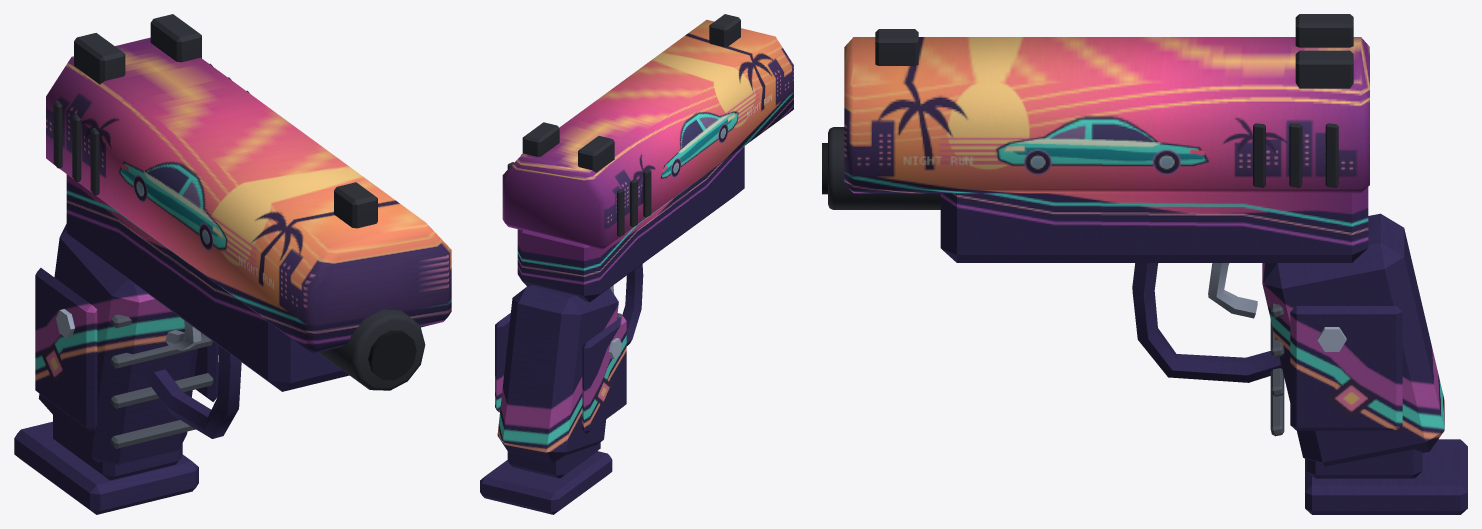
The model's file is Deagle_NightRun.glb.
3 renders of one model, left to right at view 1: azimuth 30°, elevation 25°; view 2: azimuth 150°, elevation 25°; view 3: azimuth 270°, elevation 25°, orthographic. The views are drawn at different scales.
Parts seen in each view (by area): view 1: Slide, Main, Magazine; view 2: Slide, Main, Magazine; view 3: Slide, Main, Magazine.
Part boxes in pixels (left/top/right/bottom): Slide: left=46, top=14, right=451, bottom=353; Main: left=35, top=174, right=425, bottom=464; Magazine: left=14, top=415, right=198, bottom=514; Slide: left=502, top=14, right=793, bottom=249; Main: left=495, top=146, right=744, bottom=463; Magazine: left=480, top=442, right=612, bottom=514; Slide: left=844, top=14, right=1369, bottom=193; Main: left=822, top=127, right=1444, bottom=466; Magazine: left=1305, top=439, right=1467, bottom=514.
Bounding box in the file's own units: 0.498 × 1.4 × 1.78.
Materials: 2 (1 with a texture image).
